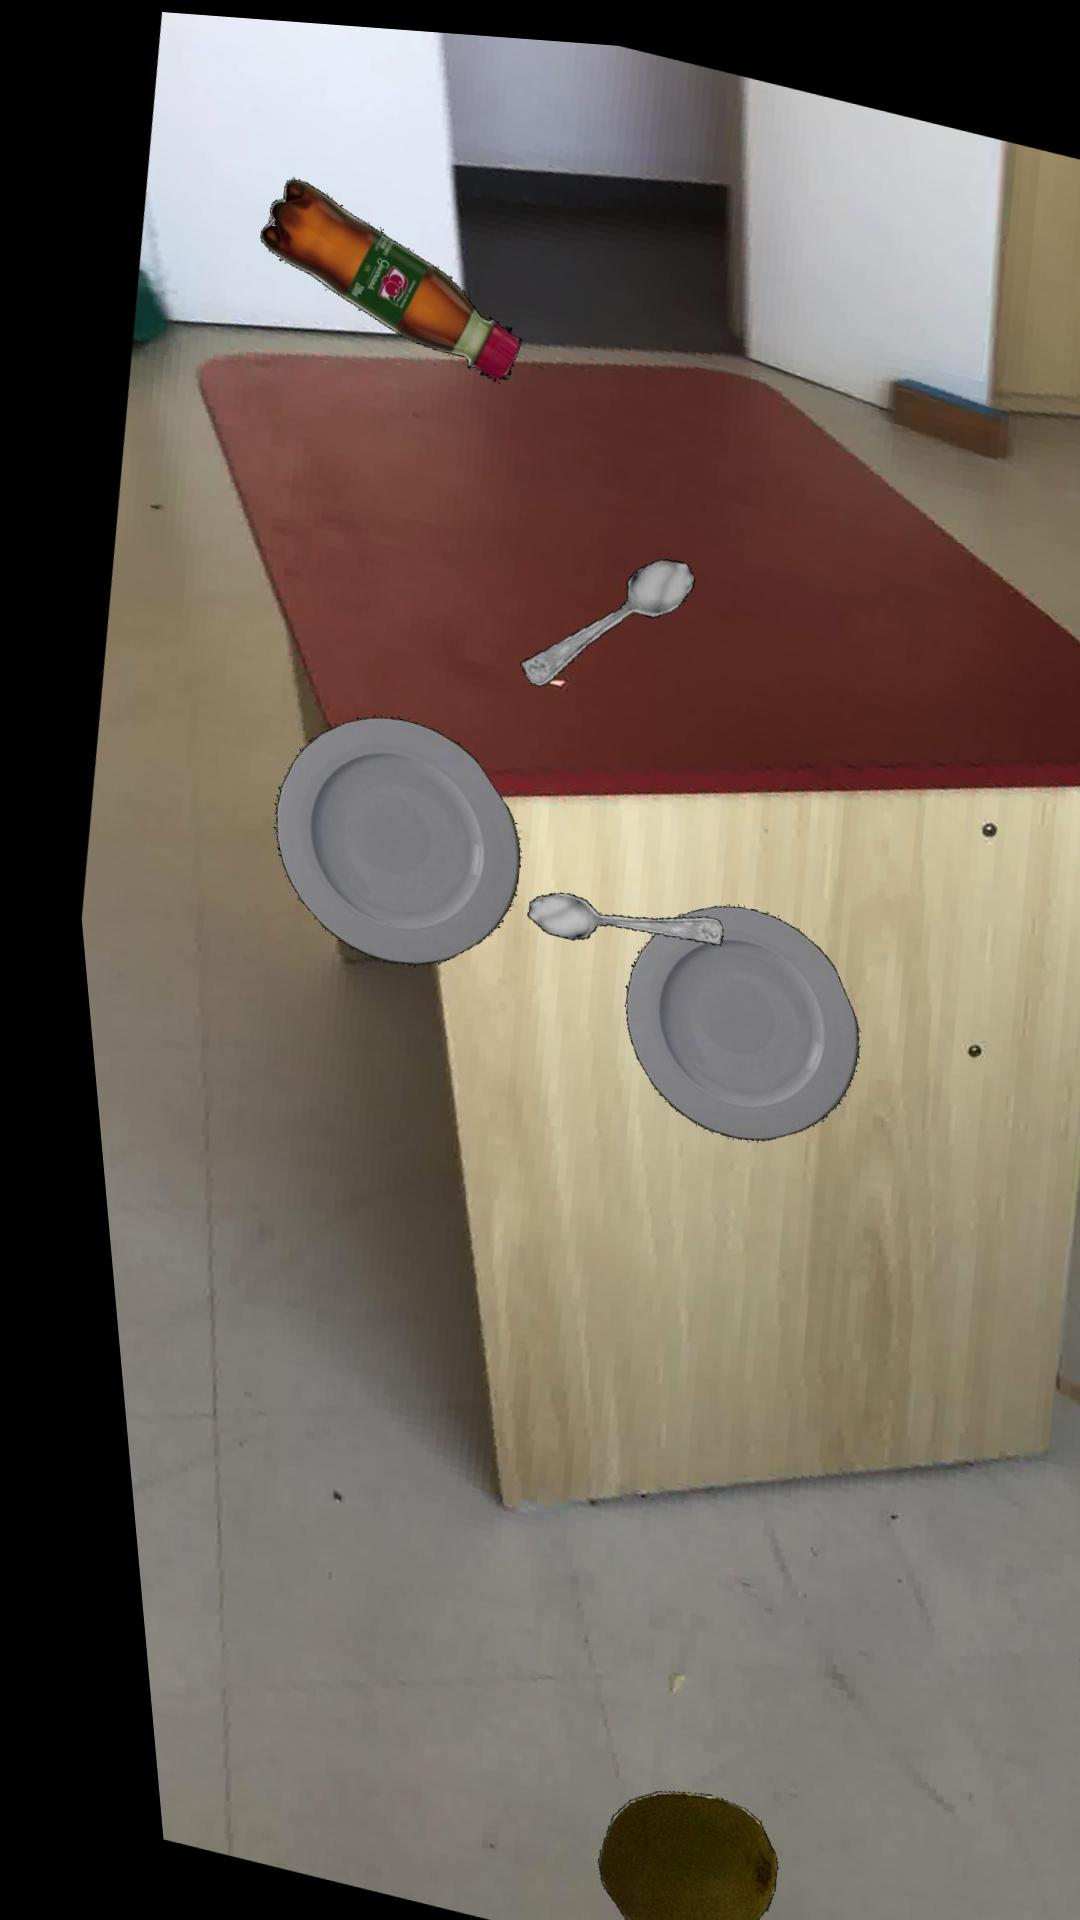guarana: (255, 173, 514, 372)
kiwi: (562, 1780, 741, 1920)
plate: (258, 709, 502, 957), (605, 893, 839, 1127)
spoon: (506, 546, 683, 676), (509, 882, 705, 932)
